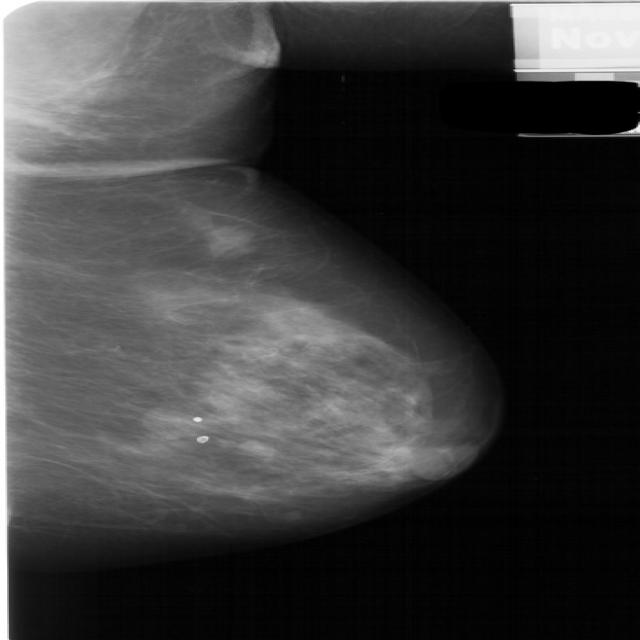tumour: (197, 220, 253, 257)
